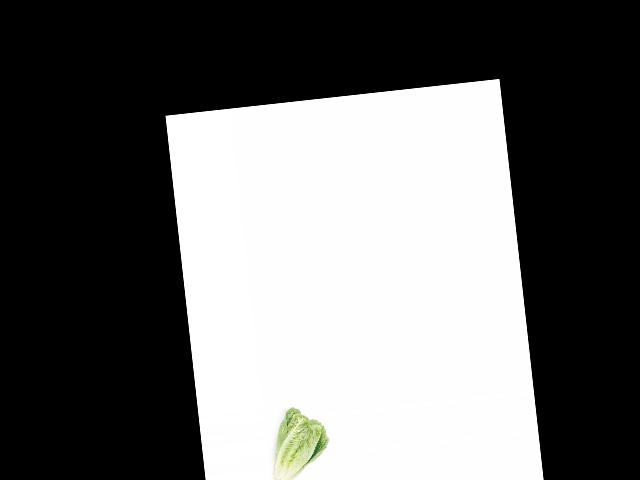lettuce: (264, 404, 332, 480)
